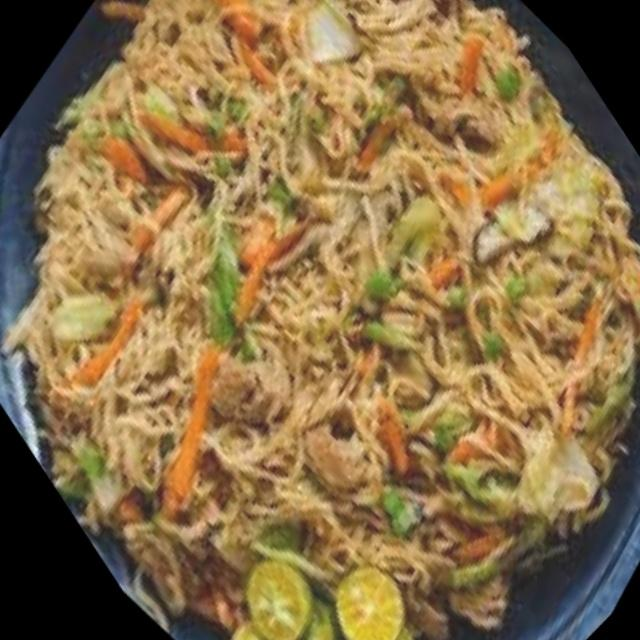pancit bihon: (35, 0, 639, 625)
